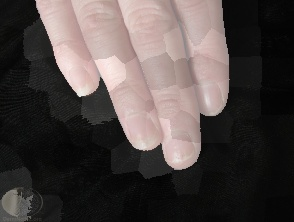Nail_psoriasis: (132, 135, 155, 154), (170, 146, 190, 164)
